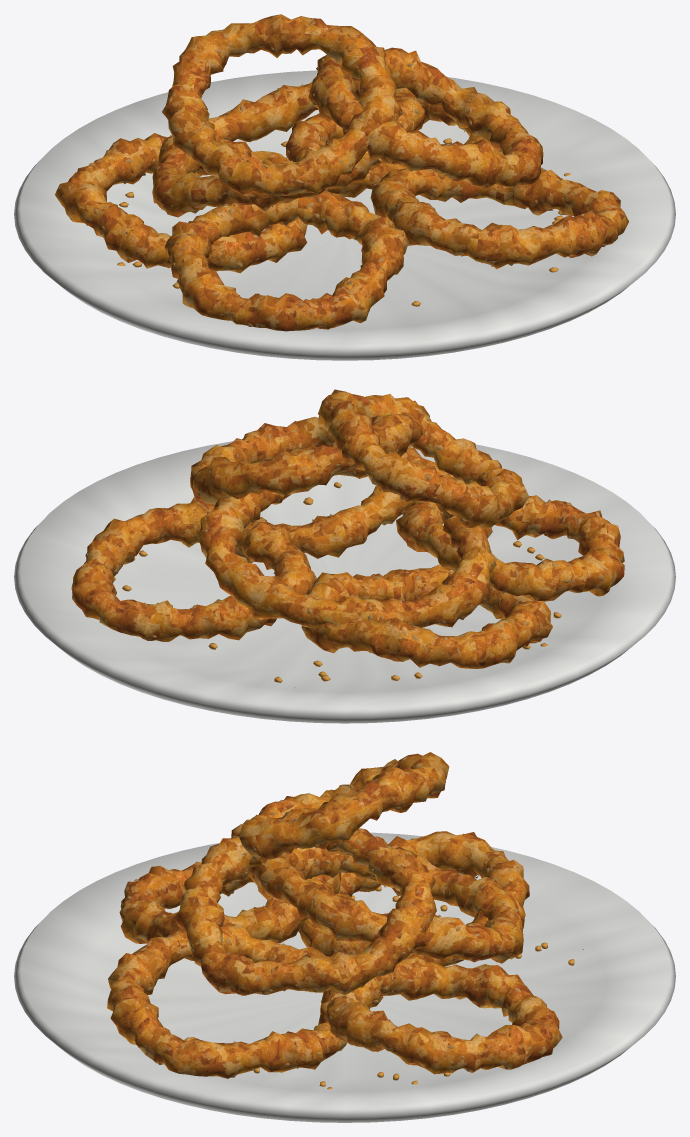
The model's file is aneis-de-cebola.glb.
The picture shows the model from 3 angles, top to bottom: view 1: azimuth 30°, elevation 25°; view 2: azimuth 150°, elevation 25°; view 3: azimuth 270°, elevation 25°; orthographic projection.
Parts seen in each view (by area): view 1: Anel_de_massa_crocante, Prato001, Migalhas_tostadas_salientes001; view 2: Anel_de_massa_crocante, Prato001, Migalhas_tostadas_salientes001; view 3: Anel_de_massa_crocante, Prato001, Migalhas_tostadas_salientes001.
Part boxes in pixels (x1,y1,x2,y2): Anel_de_massa_crocante: [55, 14, 628, 331]; Prato001: [14, 70, 675, 360]; Migalhas_tostadas_salientes001: [68, 21, 617, 327]; Anel_de_massa_crocante: [71, 389, 624, 688]; Prato001: [14, 441, 675, 723]; Migalhas_tostadas_salientes001: [73, 399, 622, 665]; Anel_de_massa_crocante: [107, 752, 583, 1089]; Prato001: [14, 832, 675, 1122]; Migalhas_tostadas_salientes001: [113, 755, 549, 1077].
Bounding box in the file's own units: 0.23 × 0.085 × 0.23.
Materials: 3 (1 with a texture image).
